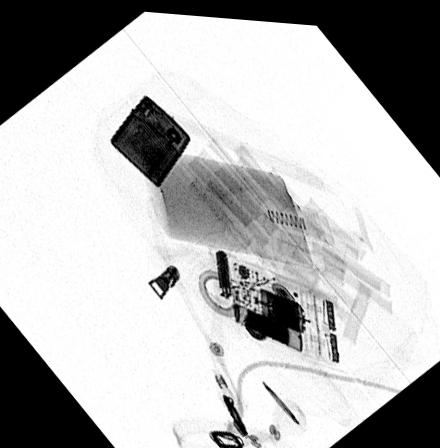Lighter: (109, 91, 191, 185)
